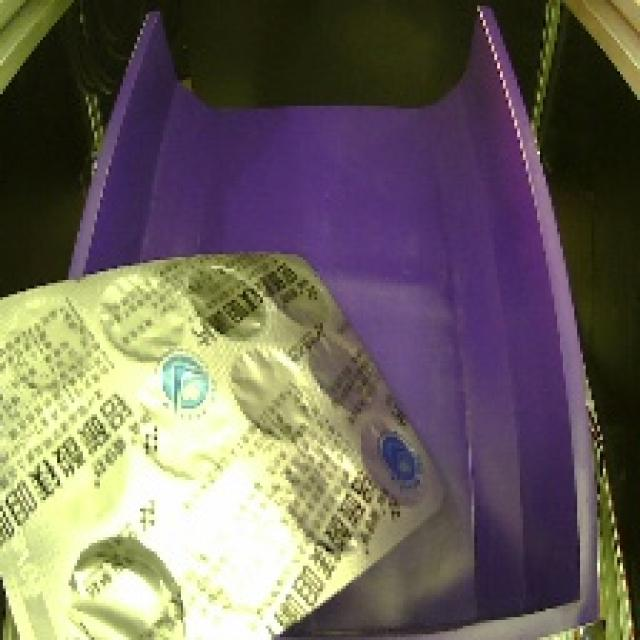med_plate: (0, 242, 458, 640)
